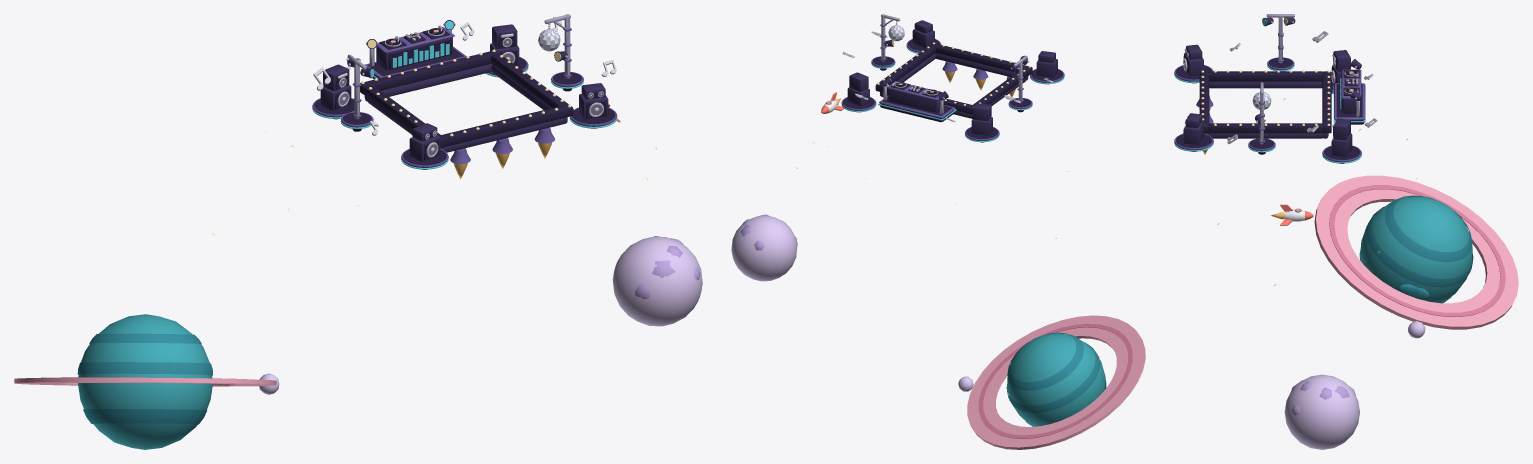
File: color.glb
The picture shows the model from 3 angles, left to right: view 1: azimuth 30°, elevation 25°; view 2: azimuth 150°, elevation 25°; view 3: azimuth 270°, elevation 25°; orthographic projection. The views are drawn at different scales.
Parts seen in each view (by area): view 1: planet, stage, moon, dj_booth, planet_ring, speakers_0_boxes, speakers_2_boxes, speakers_3_boxes, speakers_1_boxes; view 2: planet_ring, planet, moon, stage, dj_booth, speakers_1_boxes, speakers_0_boxes, speakers_3_boxes, speakers_2_boxes; view 3: planet_ring, planet, stage, moon, dj_booth, speakers_1_boxes, speakers_3_boxes, speakers_2_boxes, speakers_0_boxes, rocket_body, speakers_1_pod, speakers_3_pod (+1 smaller).
Part boxes in pixels (left/top/right/bottom): planet: left=77, top=314, right=212, bottom=449; stage: left=360, top=51, right=573, bottom=152; moon: left=612, top=236, right=702, bottom=326; dj_booth: left=364, top=25, right=466, bottom=78; planet_ring: left=14, top=377, right=276, bottom=386; speakers_0_boxes: left=320, top=64, right=351, bottom=110; speakers_2_boxes: left=409, top=123, right=440, bottom=161; speakers_3_boxes: left=579, top=83, right=608, bottom=119; speakers_1_boxes: left=490, top=24, right=519, bottom=65; planet_ring: left=967, top=315, right=1145, bottom=449; planet: left=1006, top=332, right=1106, bottom=426; moon: left=731, top=214, right=797, bottom=281; stage: left=875, top=43, right=1032, bottom=118; dj_booth: left=879, top=81, right=955, bottom=122; speakers_1_boxes: left=847, top=72, right=869, bottom=106; speakers_0_boxes: left=971, top=103, right=992, bottom=135; speakers_3_boxes: left=912, top=20, right=934, bottom=48; speakers_2_boxes: left=1036, top=51, right=1057, bottom=77; planet_ring: left=1314, top=175, right=1518, bottom=329; planet: left=1359, top=195, right=1473, bottom=303; stage: left=1199, top=71, right=1331, bottom=138; moon: left=1284, top=374, right=1359, bottom=449; dj_booth: left=1334, top=69, right=1365, bottom=124; speakers_1_boxes: left=1331, top=118, right=1352, bottom=156; speakers_3_boxes: left=1183, top=113, right=1203, bottom=144; speakers_2_boxes: left=1183, top=44, right=1203, bottom=76; speakers_0_boxes: left=1331, top=50, right=1350, bottom=83; rocket_body: left=1280, top=204, right=1313, bottom=225; speakers_1_pod: left=1322, top=145, right=1361, bottom=163; speakers_3_pod: left=1174, top=133, right=1213, bottom=151.
Bounding box in the file's own units: 61.81 × 40.56 × 36.54.
